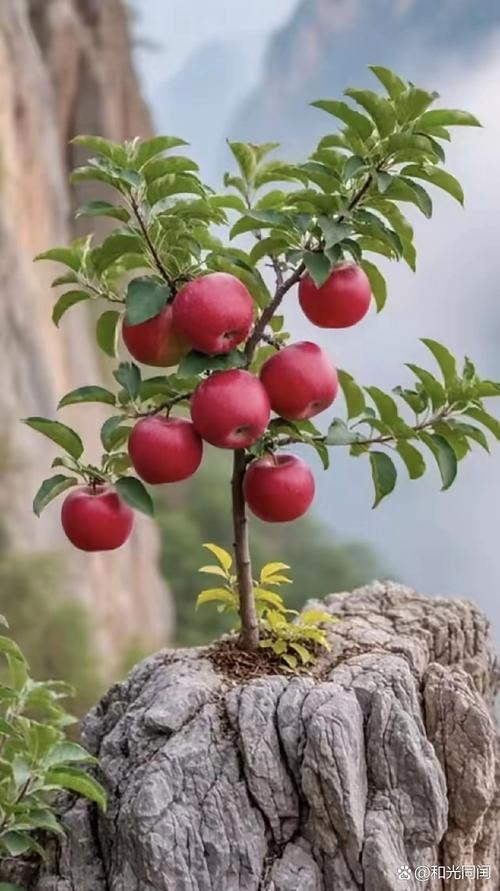ripe: (291, 252, 400, 334), (180, 370, 268, 452), (175, 270, 255, 355), (118, 407, 200, 486), (259, 345, 343, 418), (111, 289, 186, 370), (50, 480, 134, 550), (239, 457, 323, 525)
